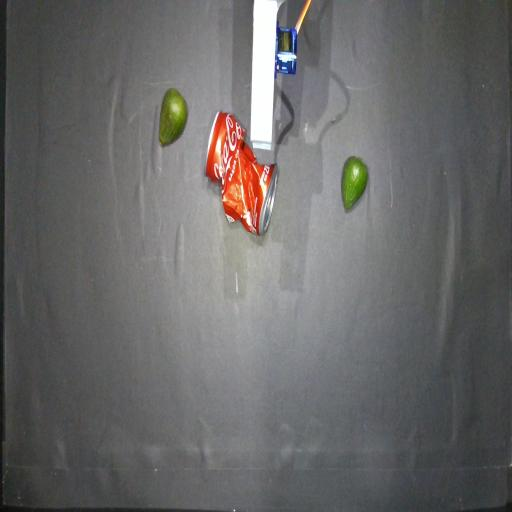higo: (159, 88, 188, 146), (341, 156, 368, 209)
lata_defectuoso: (205, 111, 278, 235)
